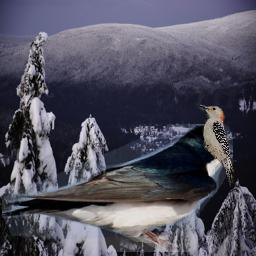Swallow: (2, 124, 233, 252)
Woodpecker: (197, 101, 236, 187)
